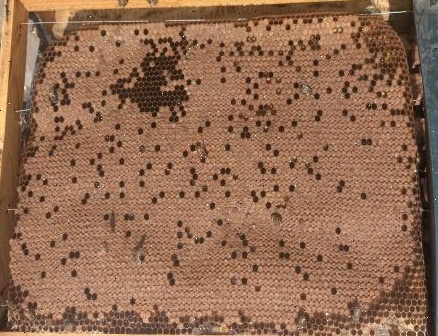cria: (8, 10, 422, 333)
